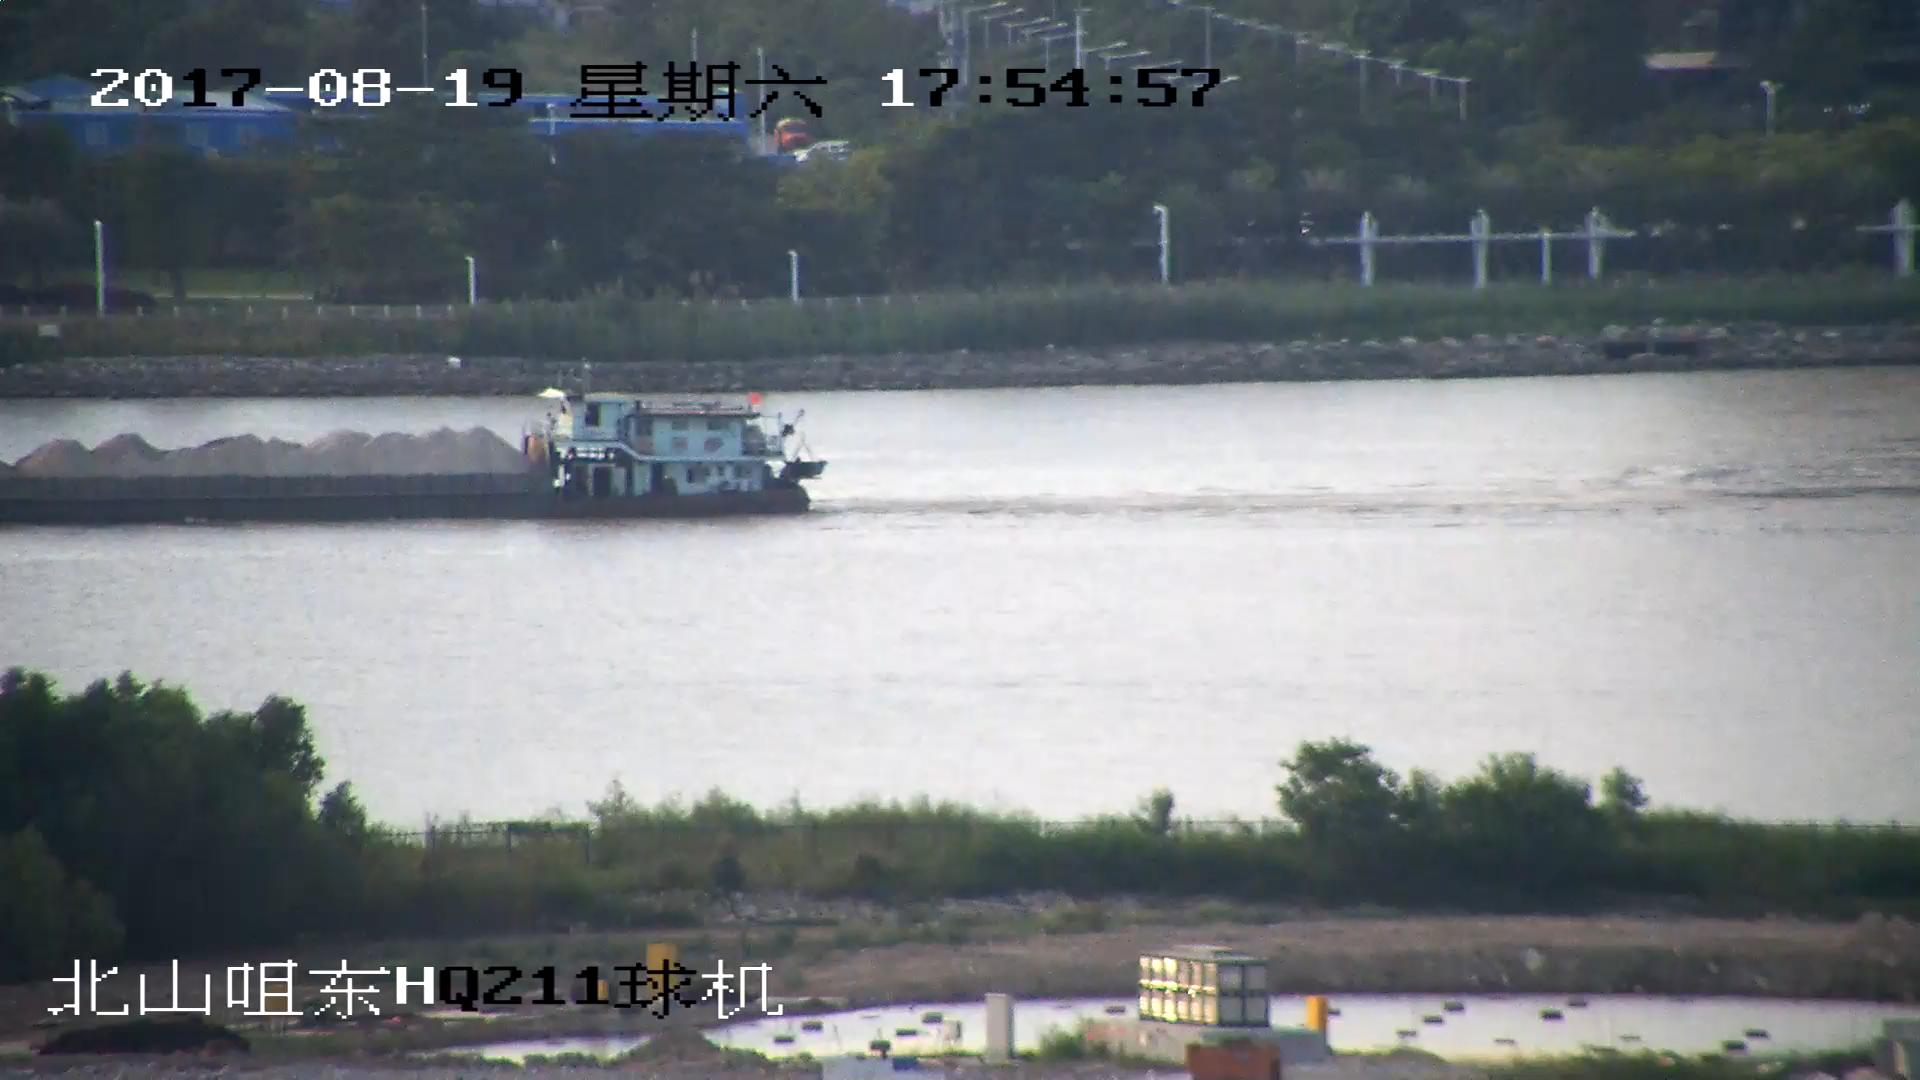ore carrier: (1, 384, 826, 522)
